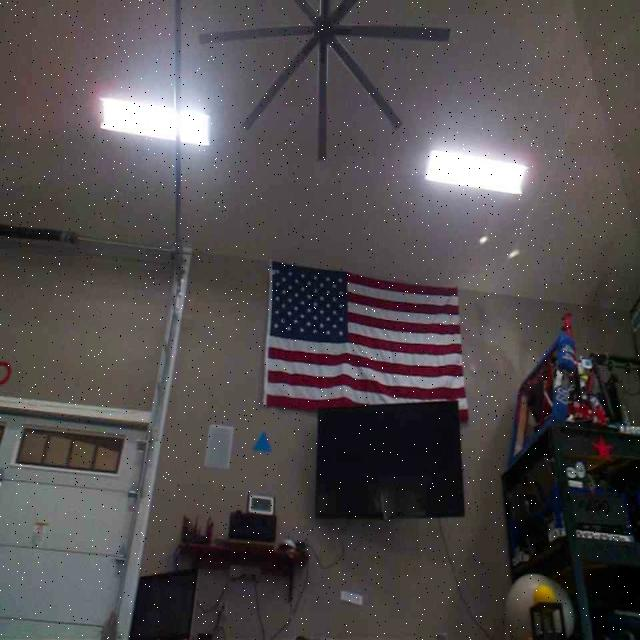star_red: (592, 435, 612, 461)
triangle_blue: (252, 426, 272, 452)
